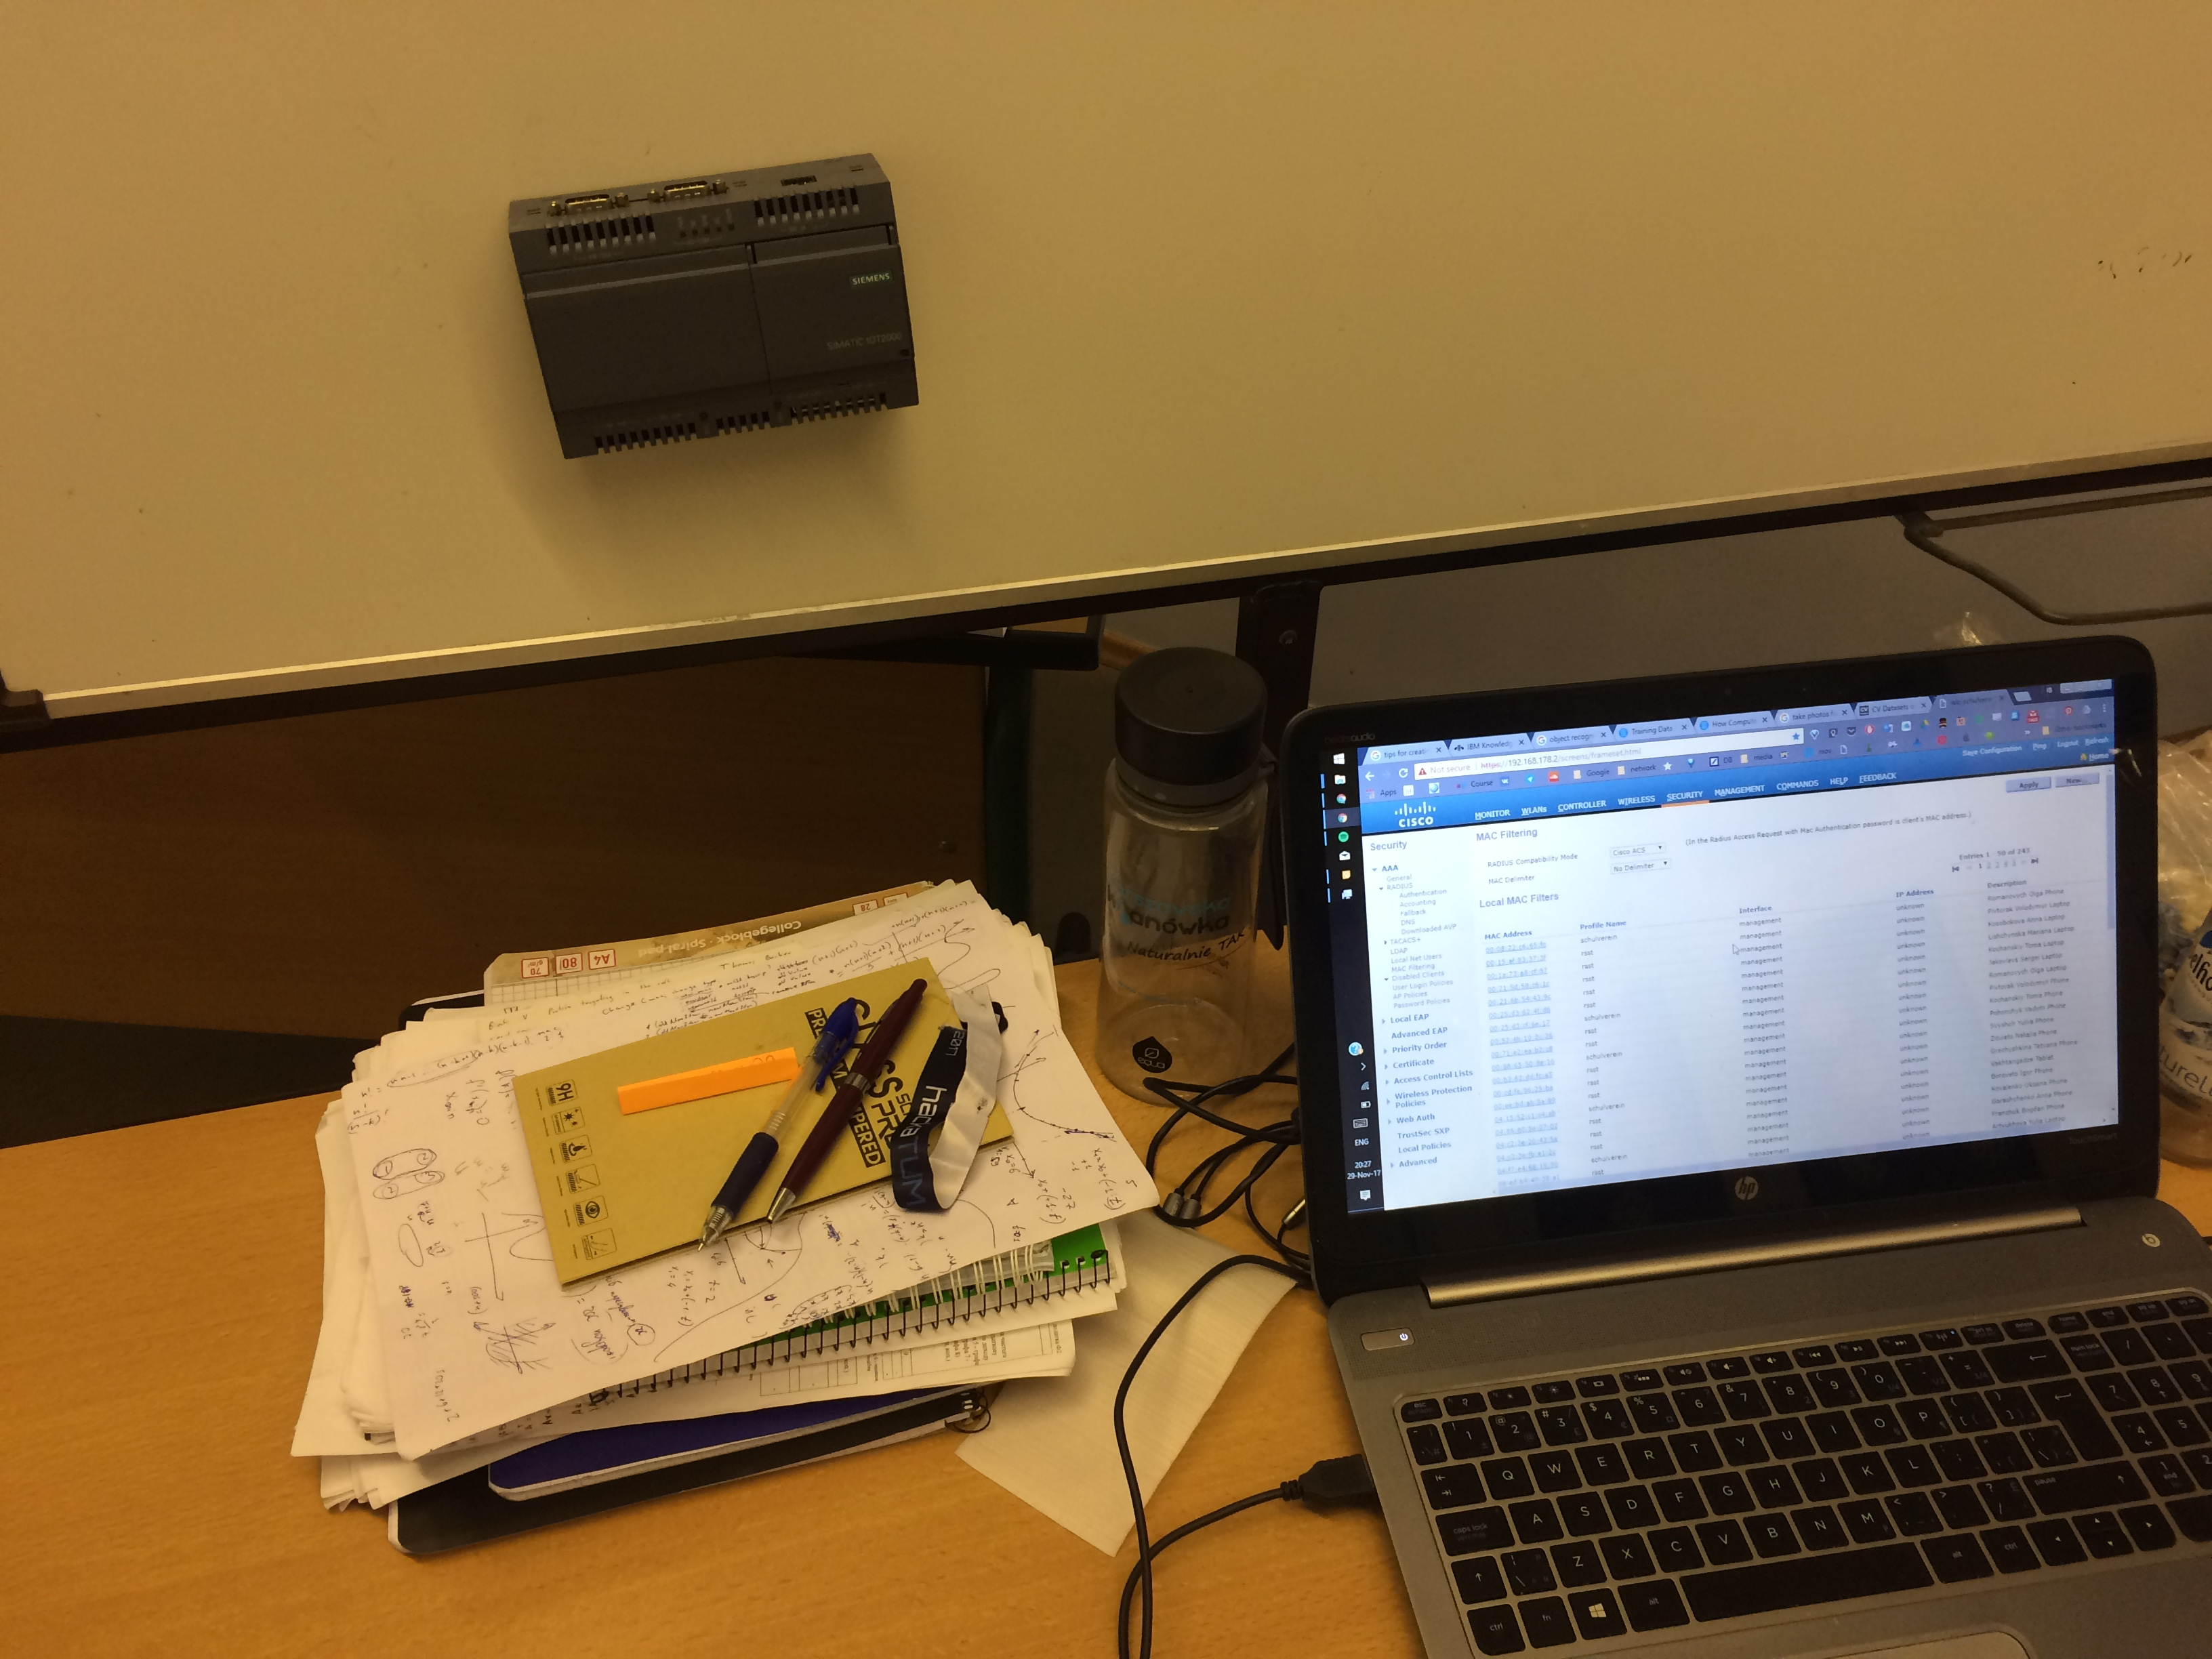iot2000: (505, 152, 923, 464)
